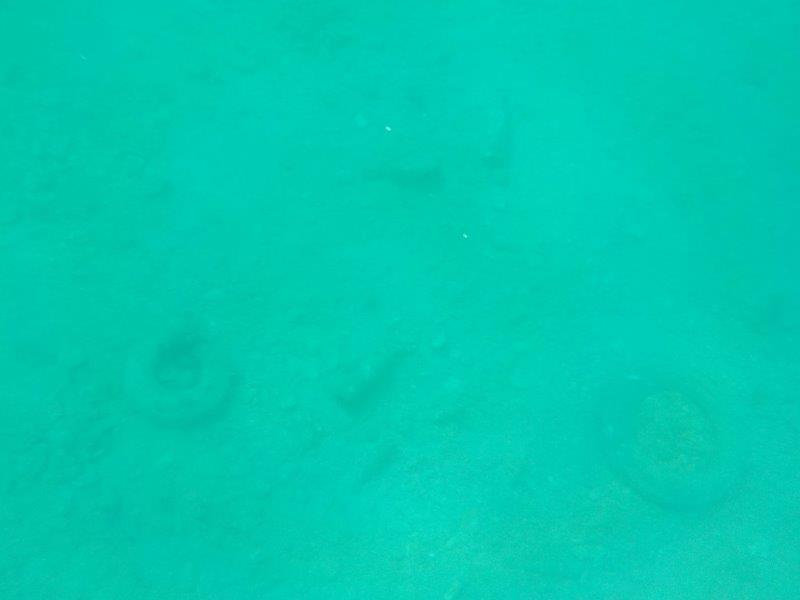bottle: (326, 334, 412, 413), (346, 151, 453, 195), (471, 74, 517, 174)
tire: (594, 355, 751, 519), (120, 320, 236, 428)
